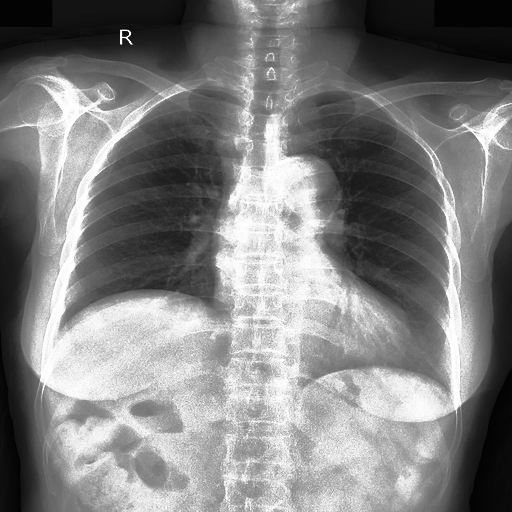Consolidation: (259, 152, 341, 226)
Nodule/Mass: (210, 290, 412, 375)
